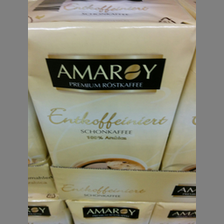coffee: (29, 1, 195, 170)
